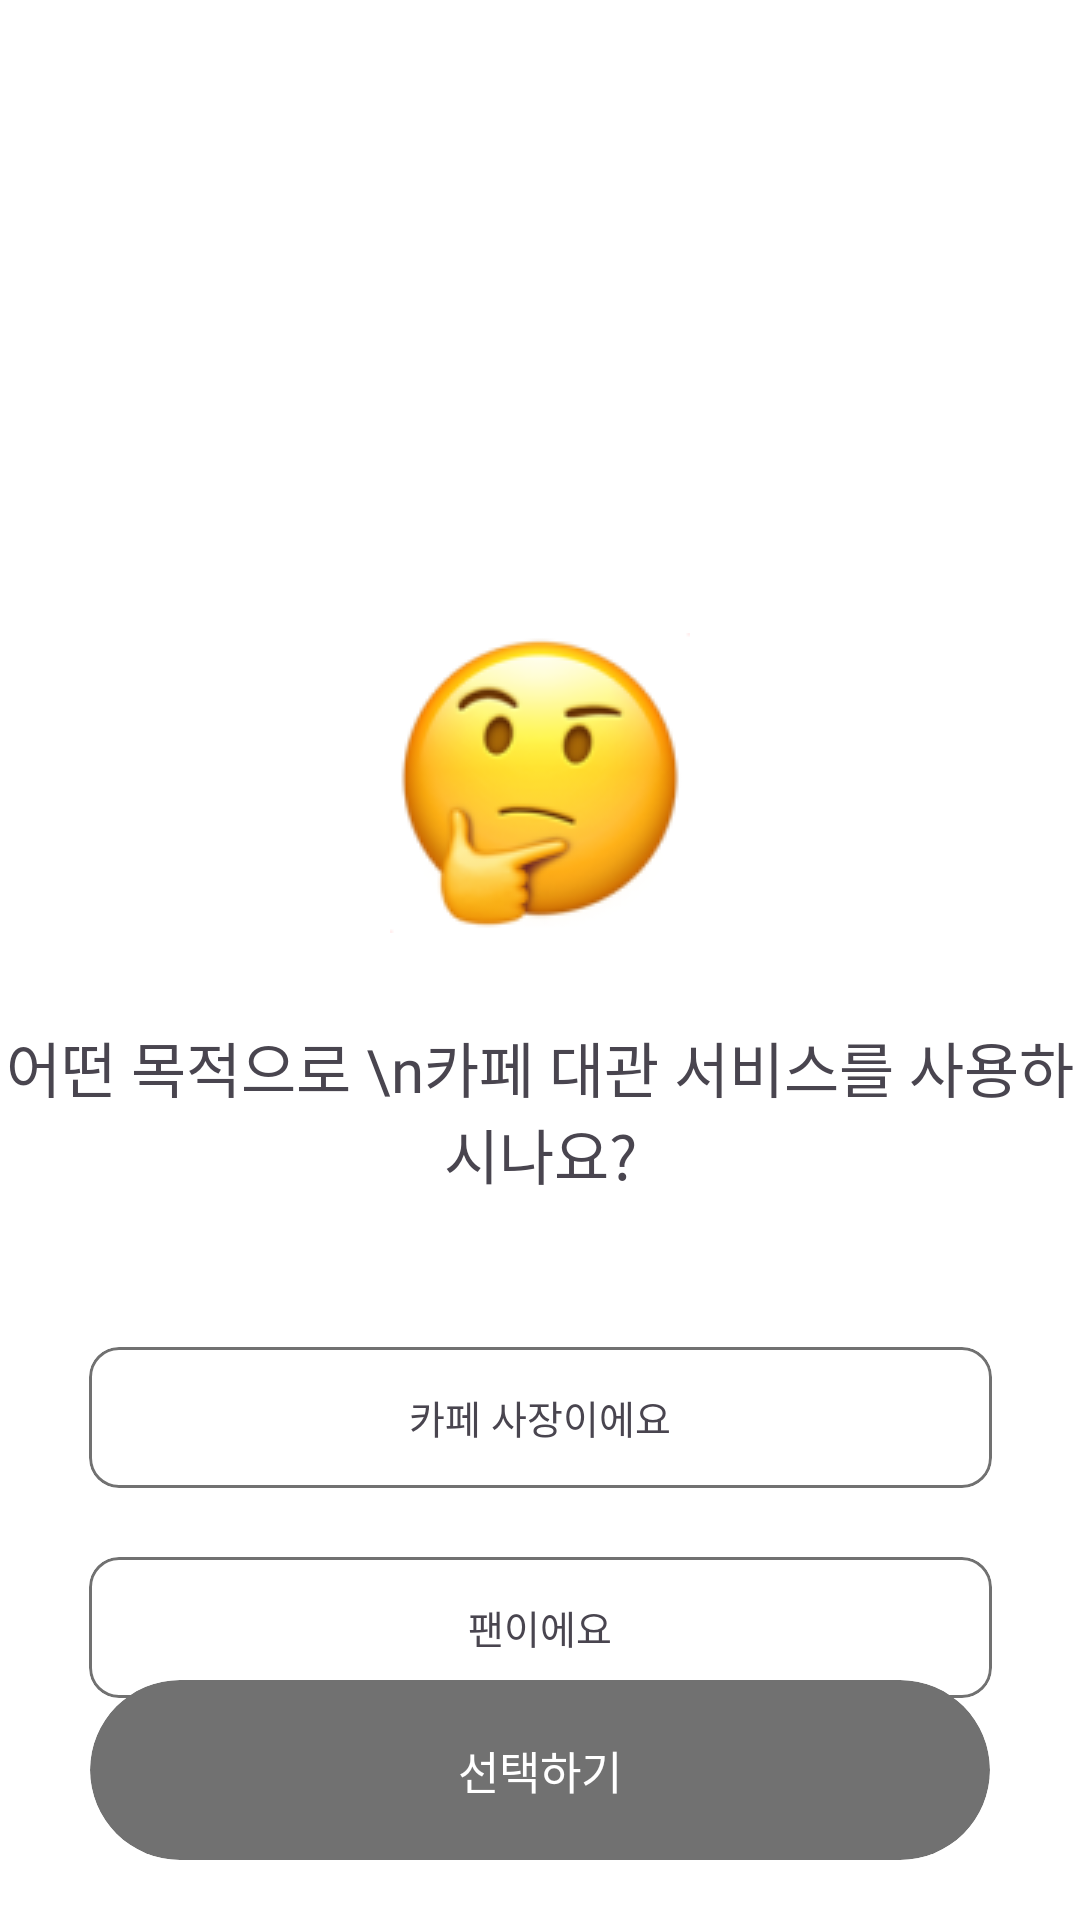

Icon click points for this 1080×1920 phone screenshot, format point (x, y):
onboardingemoticon: point (540, 783)
